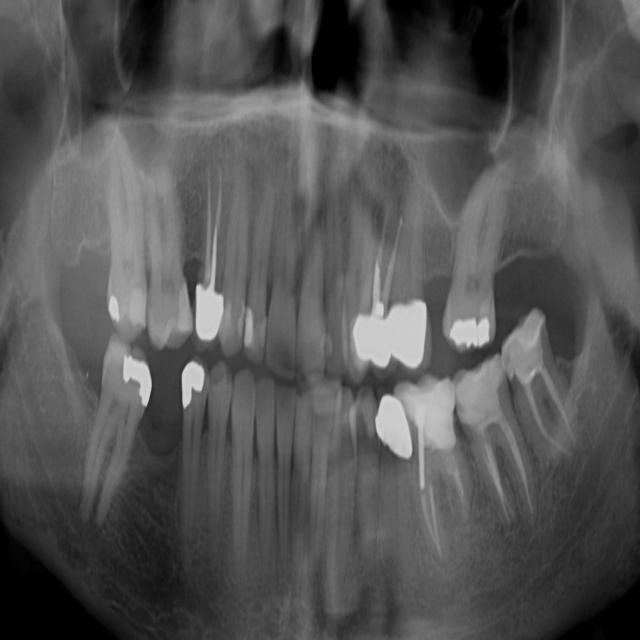dolgu: (97, 340, 154, 413), (438, 301, 496, 352), (175, 358, 210, 410), (102, 284, 140, 330), (243, 308, 259, 352)
kanal-tedavisi: (518, 372, 592, 466), (473, 422, 540, 520), (409, 467, 460, 570), (192, 153, 224, 291), (372, 193, 399, 320)
kaplama: (407, 384, 455, 450), (372, 391, 416, 461), (356, 304, 394, 372), (394, 299, 431, 365), (193, 284, 228, 346)
